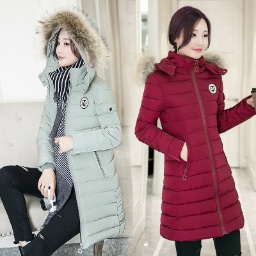face: (166, 1, 220, 65), (43, 17, 98, 77)
